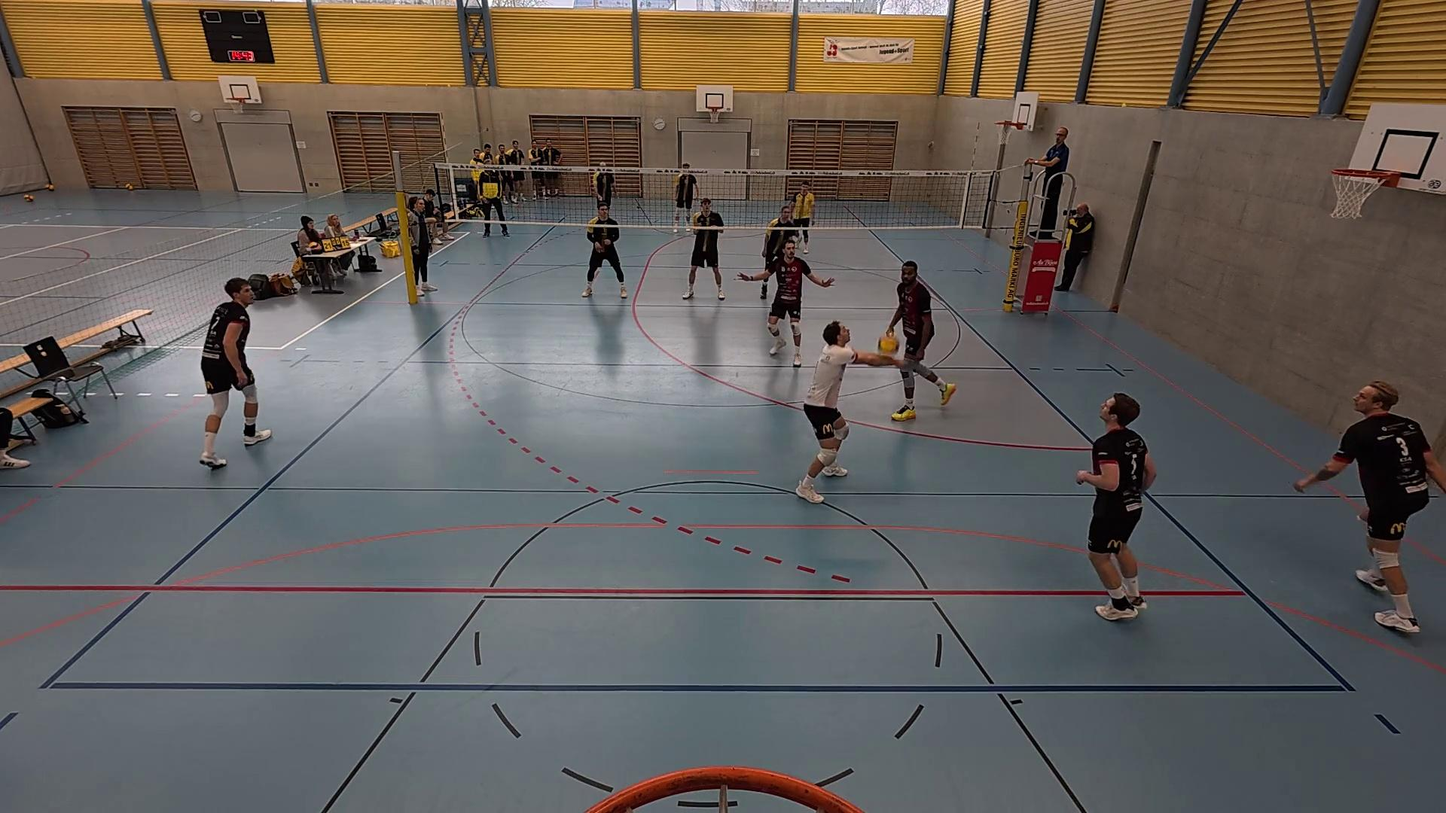alzata: (786, 311, 909, 509)
